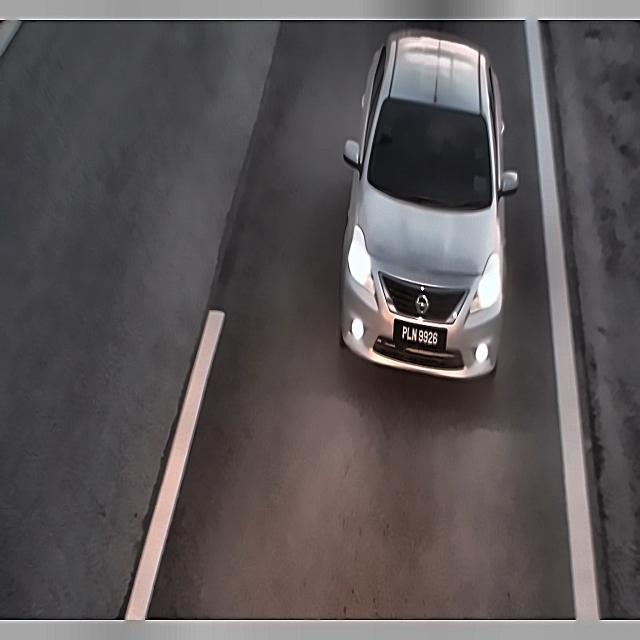car: (386, 311, 454, 362)
